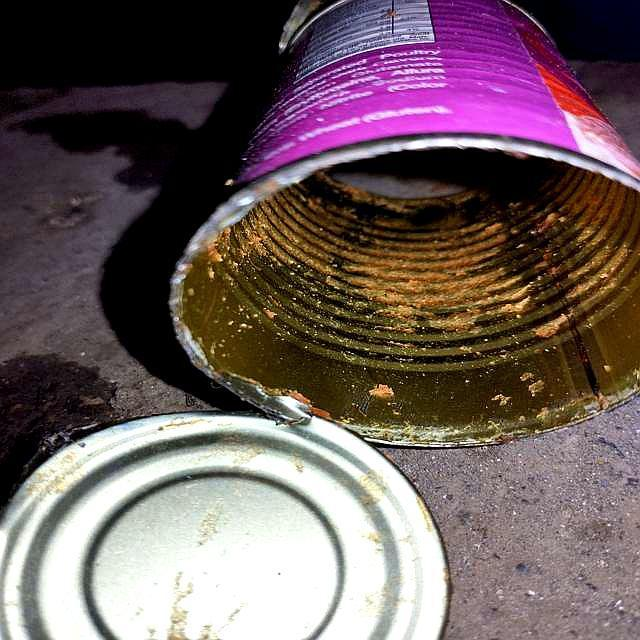Non-biodegradable: (1, 1, 640, 640)
